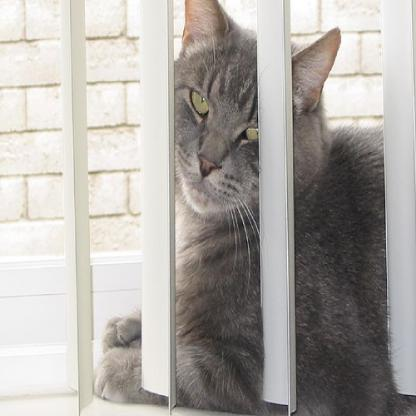cat: (91, 0, 415, 415)
